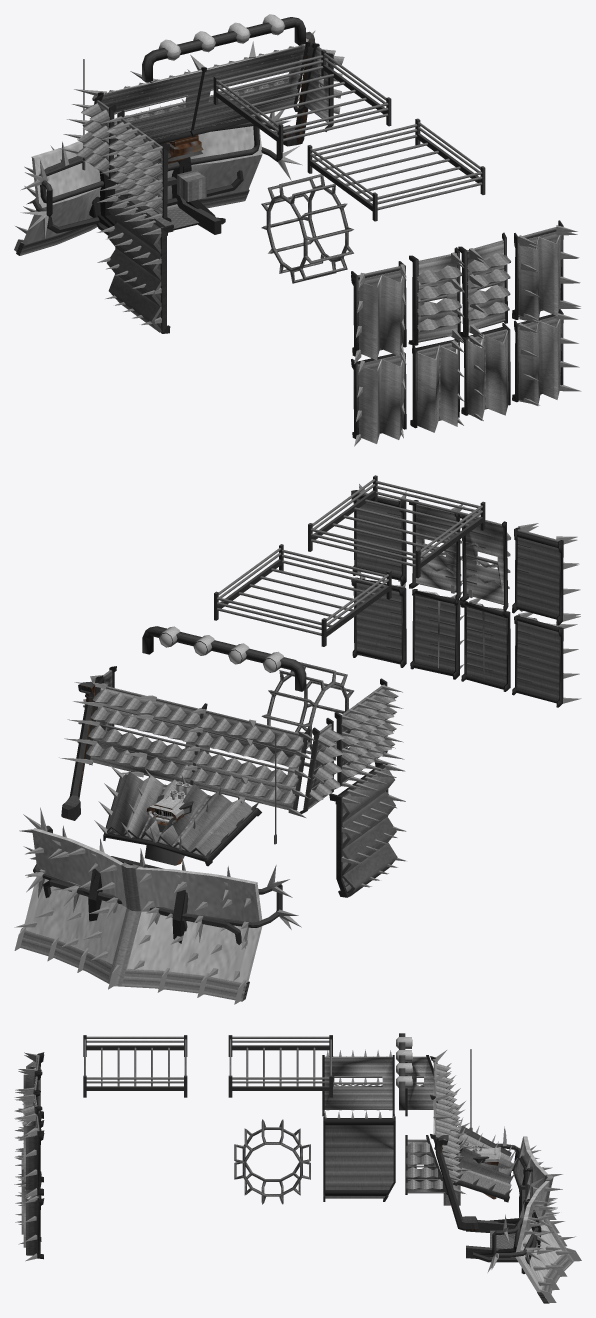
The model's file is StepVanArmor.fbx.
3 renders of one model, top to bottom at view 1: azimuth 30°, elevation 25°; view 2: azimuth 150°, elevation 25°; view 3: azimuth 270°, elevation 25°, orthographic. The views are drawn at different scales.
Visible parts, largest first — view 1: trunkreinforcedrear, roofrack, windowreinforcedrear, plow, windowheavyfront, windowheavyspikedfront, windowheavyrear, doorfrontreinforcedleft, trunkheavyrear, chaintires, rooflights, windowfrontreinforcedleft (+17 smaller); view 2: plow, trunkheavyrear, windowreinforcedfront, roofrack, windowheavyrear, plow_spiked, hoodreinforcedfront, windowheavyfront, doorfrontreinforcedleft, pushbar_large_spiked, windowfrontreinforcedleft, windowheavyspikedfront (+17 smaller); view 3: roofrack, doorfrontheavyleft, plow, windowfrontheavyleft, windowreinforcedfront, windowheavyfront, hoodreinforcedfront, chaintires, plow_spiked, windowreinforcedrear, pushbar_large_spiked, windowheavyspikedfront (+15 smaller).
Boxes of the visible parts, box(x1,y1,x2,y2) form: trunkreinforcedrear: box(357, 312, 561, 443); roofrack: box(213, 49, 485, 221); windowreinforcedrear: box(351, 230, 563, 360); plow: box(14, 115, 262, 255); windowheavyfront: box(82, 42, 333, 178); windowheavyspikedfront: box(60, 32, 333, 178); windowheavyrear: box(351, 231, 563, 350); doorfrontreinforcedleft: box(107, 195, 167, 332); trunkheavyrear: box(351, 309, 563, 438); chaintires: box(261, 174, 353, 283); rooflights: box(142, 14, 305, 82); windowfrontreinforcedleft: box(106, 122, 163, 210); plow: box(14, 828, 262, 1004); trunkheavyrear: box(351, 577, 563, 707); windowreinforcedfront: box(77, 675, 344, 804); roofrack: box(214, 475, 485, 646); windowheavyrear: box(351, 494, 563, 622); plow_spiked: box(14, 830, 259, 982); hoodreinforcedfront: box(103, 771, 252, 861); windowheavyfront: box(86, 666, 333, 813); doorfrontreinforcedleft: box(335, 764, 397, 896); pushbar_large_spiked: box(19, 807, 301, 948); windowfrontreinforcedleft: box(341, 690, 398, 778); windowheavyspikedfront: box(67, 666, 333, 816); roofrack: box(83, 1035, 332, 1097); doorfrontheavyleft: box(323, 1116, 395, 1201); plow: box(471, 1136, 581, 1303); windowfrontheavyleft: box(322, 1055, 394, 1116); windowreinforcedfront: box(406, 1063, 460, 1189); windowheavyfront: box(405, 1055, 453, 1193); hoodreinforcedfront: box(456, 1125, 512, 1197); chaintires: box(234, 1119, 310, 1204); plow_spiked: box(513, 1150, 575, 1285); windowreinforcedrear: box(20, 1057, 43, 1191); pushbar_large_spiked: box(487, 1126, 555, 1272); windowheavyspikedfront: box(405, 1051, 467, 1194).
Bounding box in the file's own units: 297 × 271 × 677.
